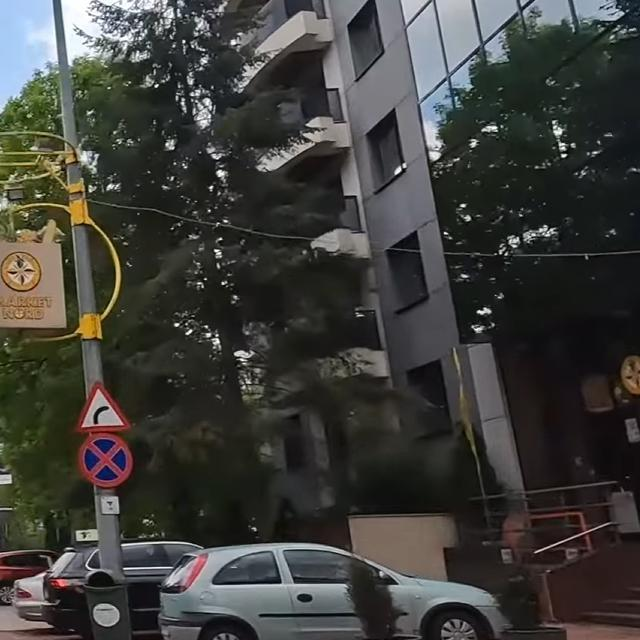forb_waiting: (77, 433, 134, 488)
warn_right_curve: (75, 381, 133, 434)
